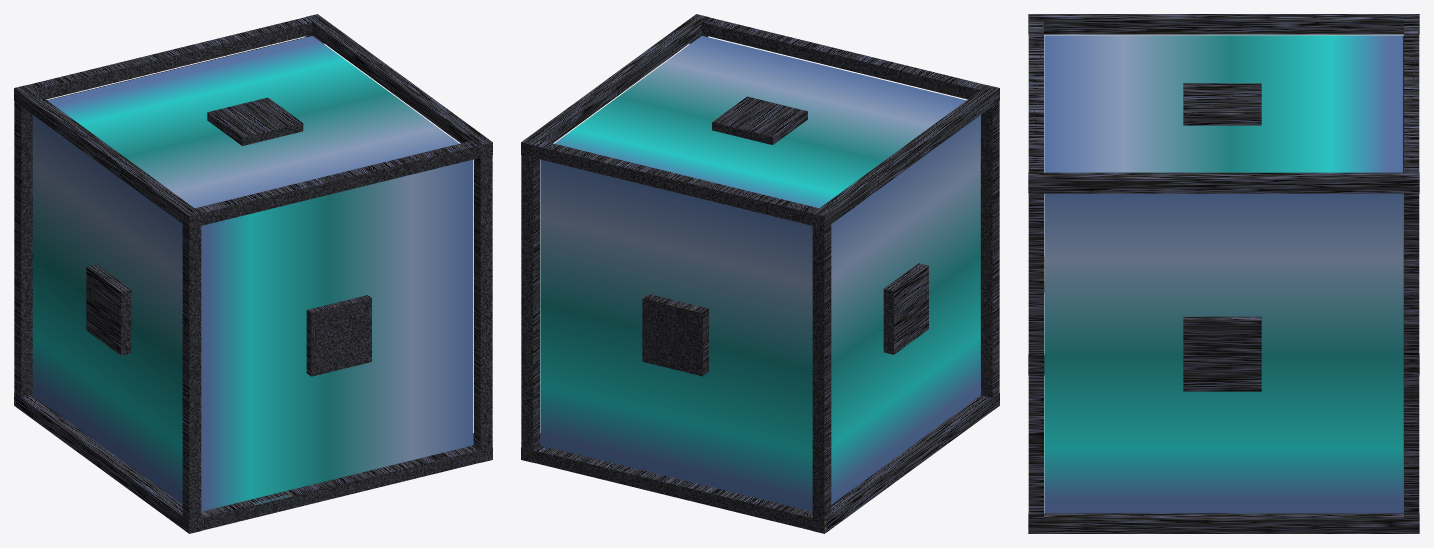
The model's file is shpere_stick_box_01_joined.obj.
3 views of the same model, side by side, from view 1: azimuth 30°, elevation 25°; view 2: azimuth 150°, elevation 25°; view 3: azimuth 270°, elevation 25° (orthographic). The views are drawn at different scales.
Visible parts, largest first — view 1: Cube, Cube.002_Cube.001; view 2: Cube, Cube.002_Cube.001; view 3: Cube, Cube.002_Cube.001.
Part boxes in pixels (x1=…): Cube: x1=32, y1=35, x2=473, y2=511; Cube.002_Cube.001: x1=14, y1=14, x2=492, y2=533; Cube: x1=540, y1=36, x2=980, y2=511; Cube.002_Cube.001: x1=521, y1=14, x2=999, y2=533; Cube: x1=1044, y1=35, x2=1403, y2=513; Cube.002_Cube.001: x1=1028, y1=14, x2=1419, y2=533.
Size of the model in its own units: 0.5 by 0.5 by 0.5.
